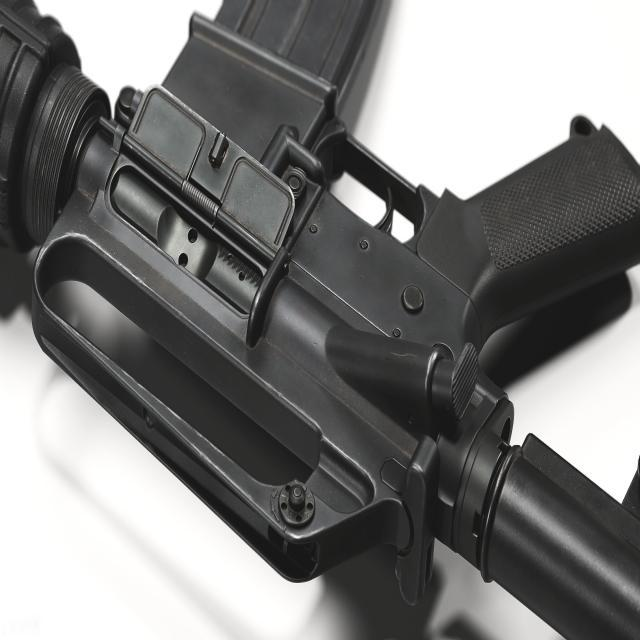m16: (16, 15, 632, 618)
